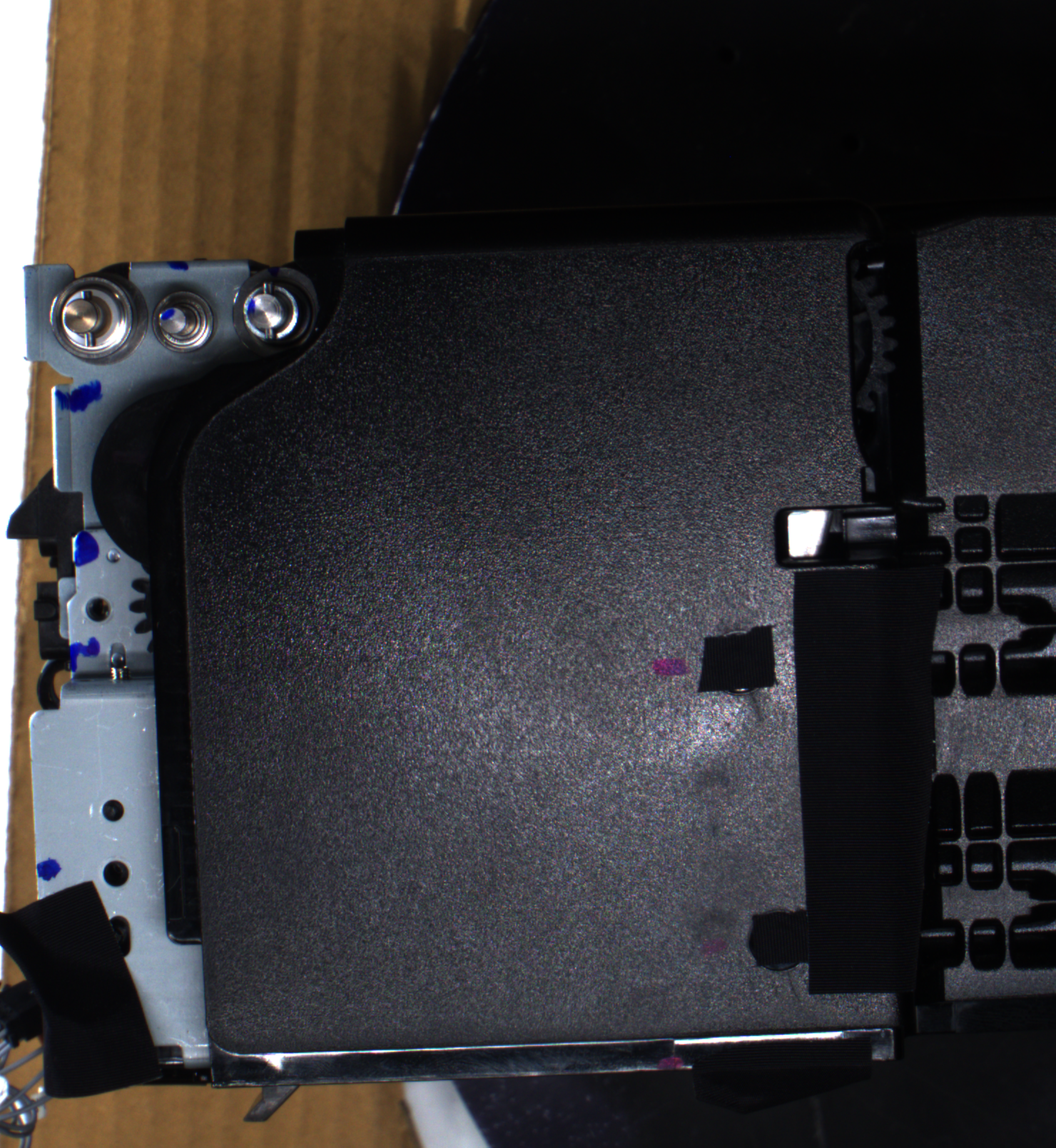gear1_absence: (47, 270, 149, 367)
gear2_absence: (145, 285, 220, 357)
gear3_absence: (227, 270, 322, 357)
side_screw_absence: (96, 855, 135, 894), (80, 592, 116, 629)
